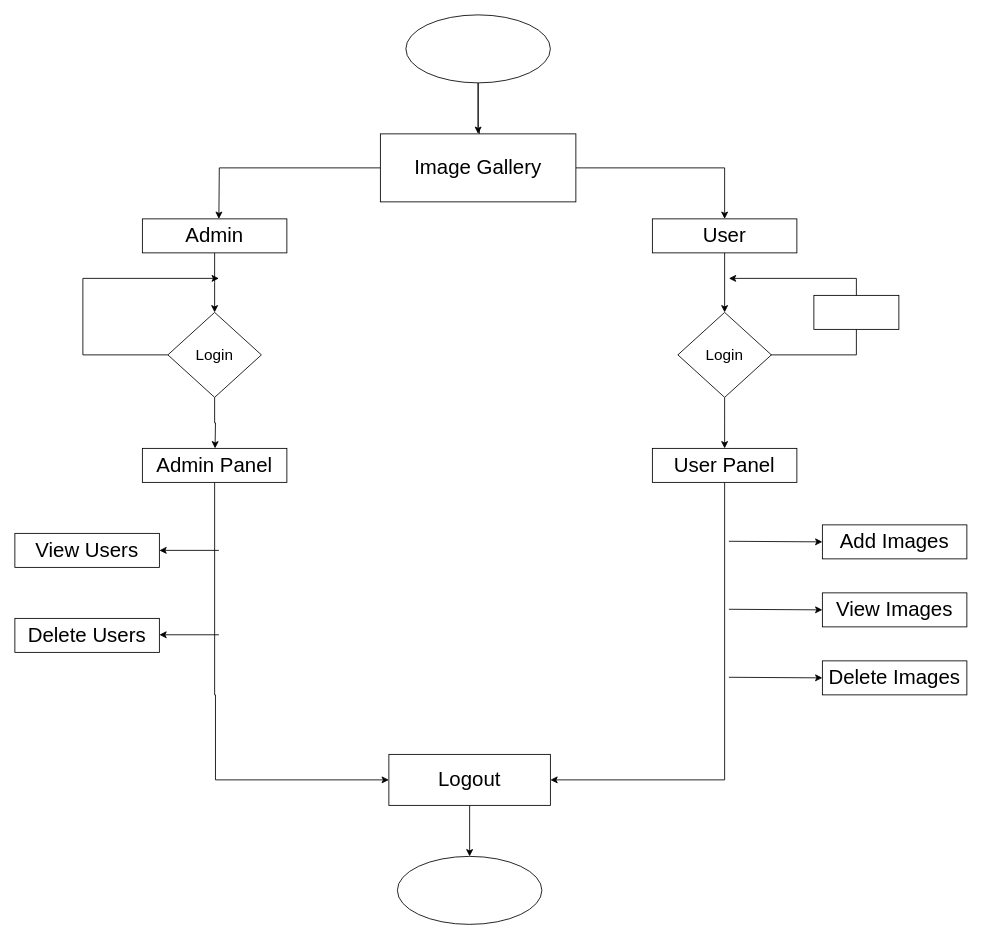
This 982x939 diagram has some shape labels left out. Each missing label, with the centre of its shape:
"End" belongs at pixel 469 890.
"New User Registration" belongs at pixel 856 312.
"Start" belongs at pixel 477 48.
